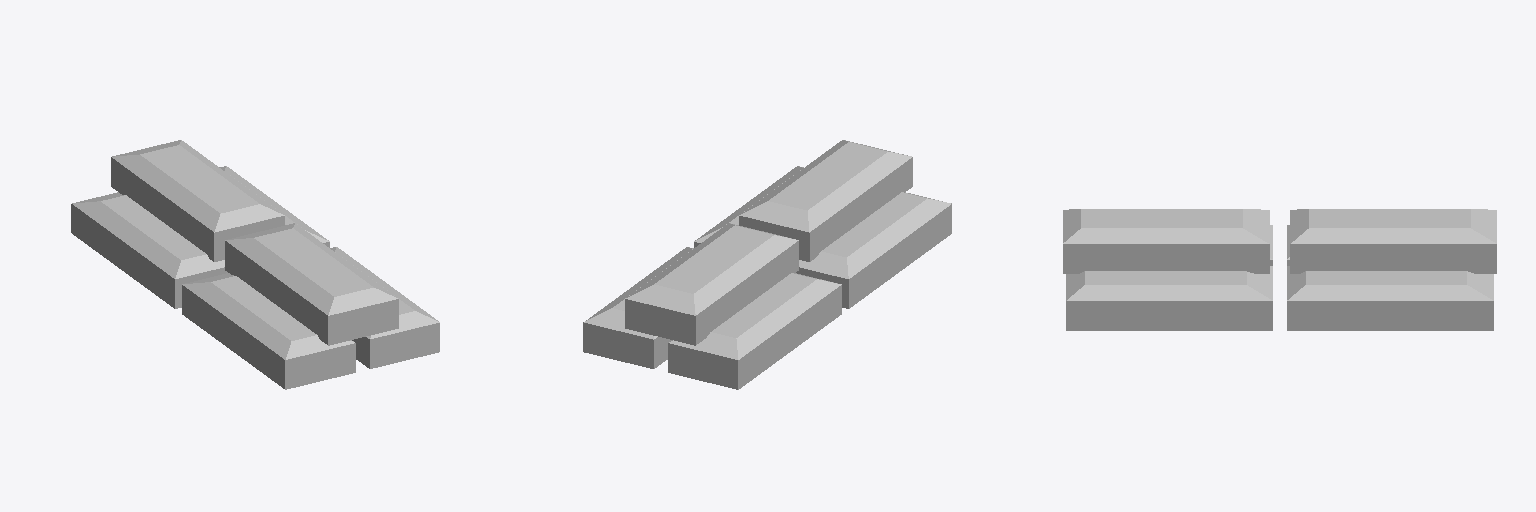
File: GoldBars.obj
The picture shows the model from 3 angles: view 1: azimuth 30°, elevation 25°; view 2: azimuth 150°, elevation 25°; view 3: azimuth 270°, elevation 25°; orthographic projection.
Parts seen in each view (by area): view 1: Cube.002; view 2: Cube.002; view 3: Cube.002.
Part boxes in pixels (bbox=[...]): Cube.002: bbox=[71, 140, 439, 389]; Cube.002: bbox=[583, 140, 951, 389]; Cube.002: bbox=[1063, 209, 1496, 330].
Bounding box in the file's own units: 1.73 × 0.785 × 4.2.